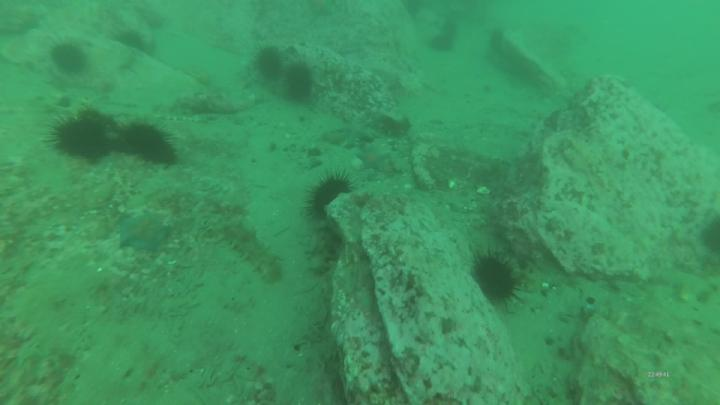echinus: (45, 113, 115, 165), (468, 247, 525, 308), (115, 120, 182, 171), (305, 170, 356, 219), (46, 39, 92, 76), (250, 42, 285, 85), (282, 58, 315, 101), (111, 27, 151, 54), (428, 30, 457, 55)
holothurian: (220, 218, 288, 288), (76, 104, 132, 138)
starfish: (116, 211, 176, 259)
